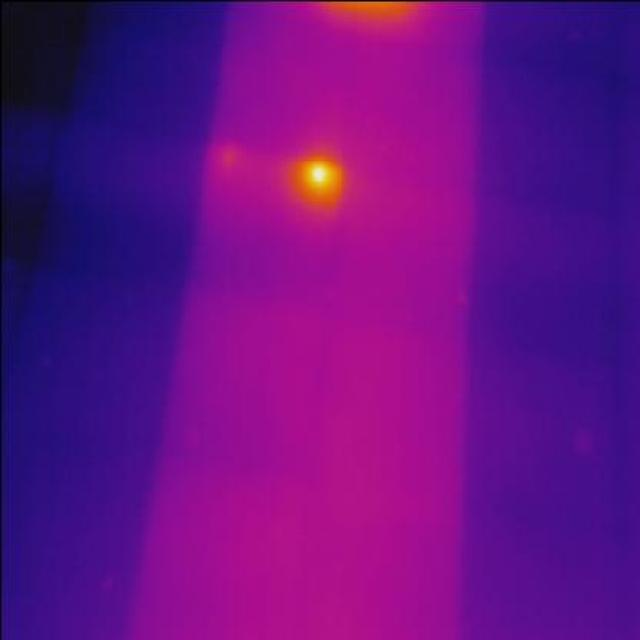hotspot: (286, 146, 348, 217)
